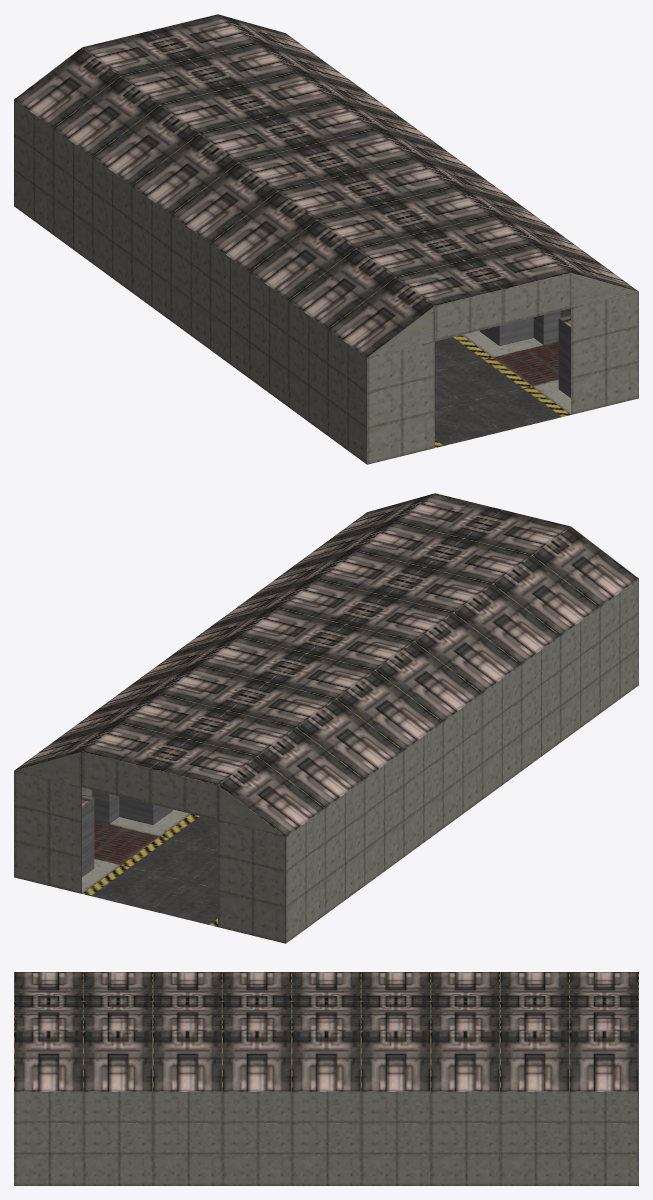
The model's file is mech_hangar.obj.
3 renders of one model, top to bottom at view 1: azimuth 30°, elevation 25°; view 2: azimuth 150°, elevation 25°; view 3: azimuth 270°, elevation 25°, orthographic. The views are drawn at different scales.
Parts seen in each view (by area): view 1: Cube_Cube.001; view 2: Cube_Cube.001; view 3: Cube_Cube.001.
Part boxes in pixels (x1,y1,x2,y2): Cube_Cube.001: [14, 14, 638, 464]; Cube_Cube.001: [14, 493, 638, 943]; Cube_Cube.001: [14, 972, 638, 1185].
Bounding box in the file's own units: 8 × 4 × 18.
